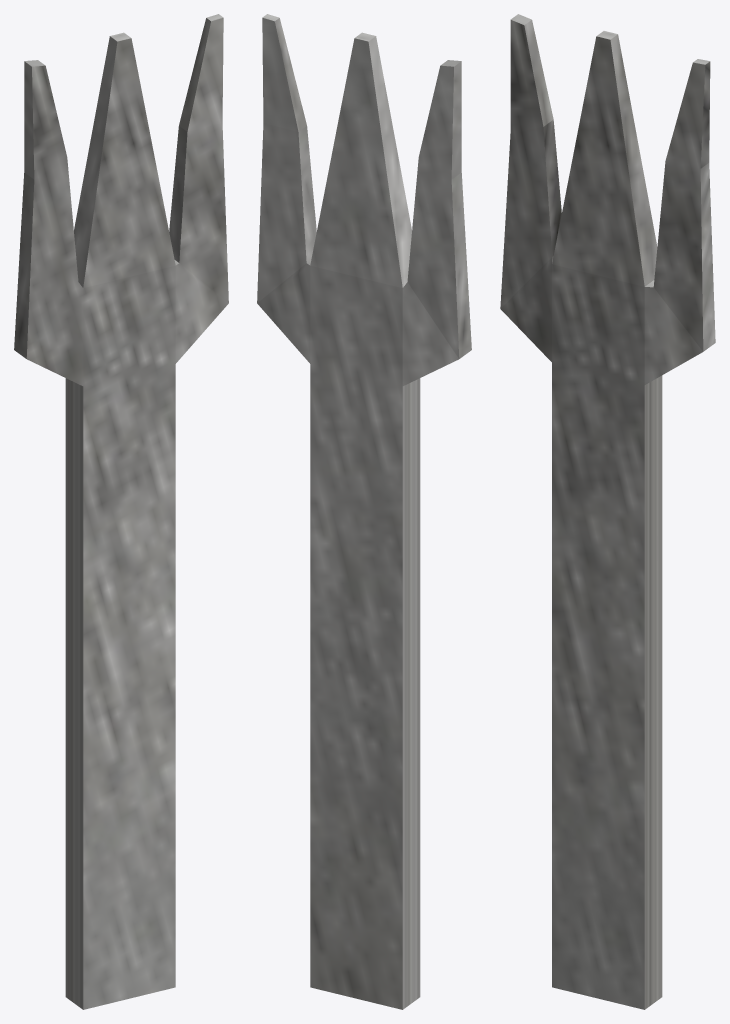
File: fork.FBX
3 renders of one model, left to right at view 1: azimuth 30°, elevation 25°; view 2: azimuth 150°, elevation 25°; view 3: azimuth 330°, elevation 25°, orthographic.
Parts seen in each view (by area): view 1: Box001; view 2: Box001; view 3: Box001.
Part boxes in pixels (bbox=[...]): Box001: bbox=[14, 14, 228, 1009]; Box001: bbox=[257, 14, 471, 1009]; Box001: bbox=[500, 14, 715, 1009].
Bounding box in the file's own units: 17.4 × 78.44 × 2.62.
1 material, 1 textured.
